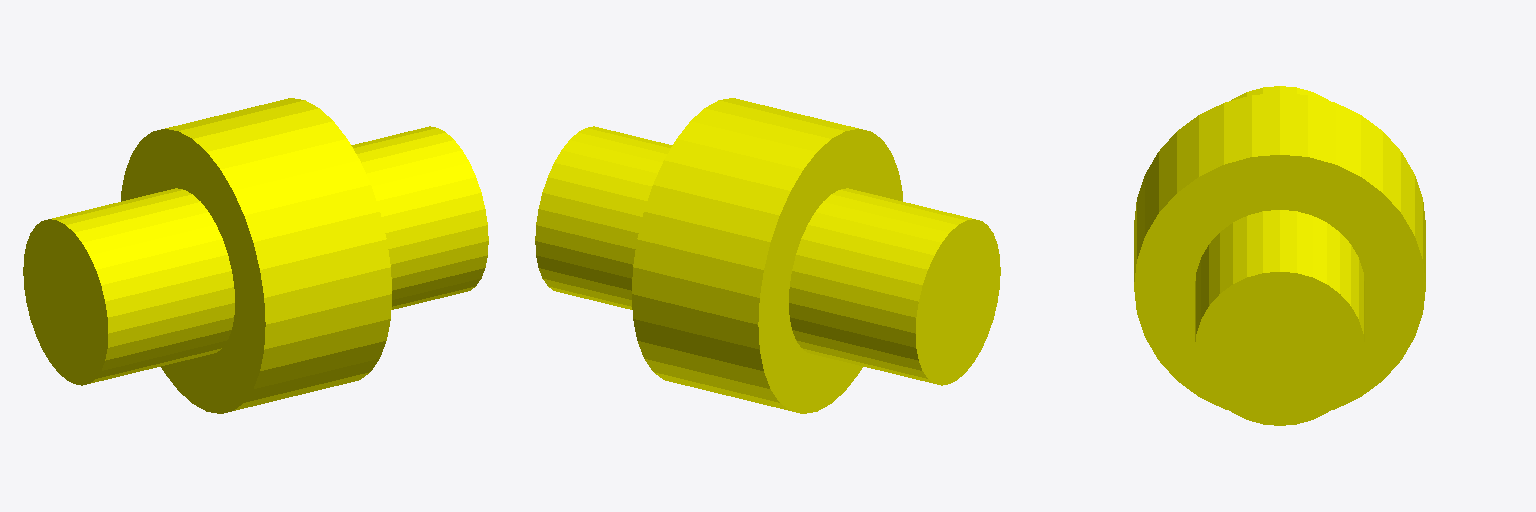
The model's file is nominal.obj.
3 views of the same model, side by side, from view 1: azimuth 30°, elevation 25°; view 2: azimuth 150°, elevation 25°; view 3: azimuth 270°, elevation 25° (orthographic).
Parts seen in each view (by area): view 1: nominal; view 2: nominal; view 3: nominal.
Boxes of the visible parts, box(x1,y1,x2,y2) form: nominal: box(23, 98, 488, 413); nominal: box(535, 98, 1000, 413); nominal: box(1134, 86, 1425, 425).
Size of the model in its own units: 5.16 by 3.43 by 3.43.